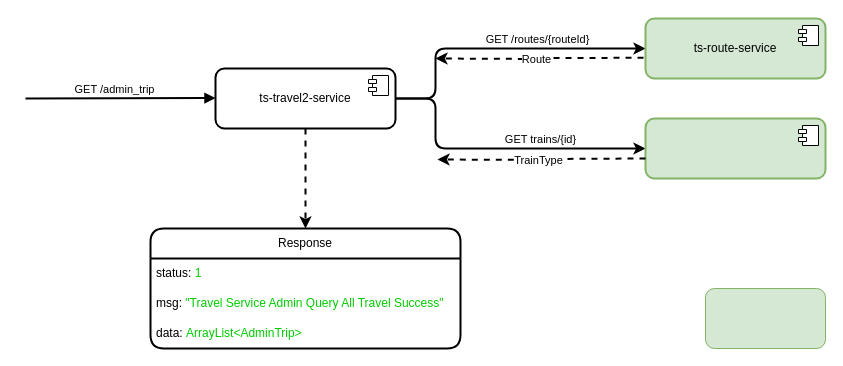
Some shapes in this 843 by 366 pixel diagram are drawn without their labels. The centre of each missing label's shape, as x and y in pixels:
"Service & Database" belongs at point (765, 318).
"ts-train-service" belongs at point (735, 148).
